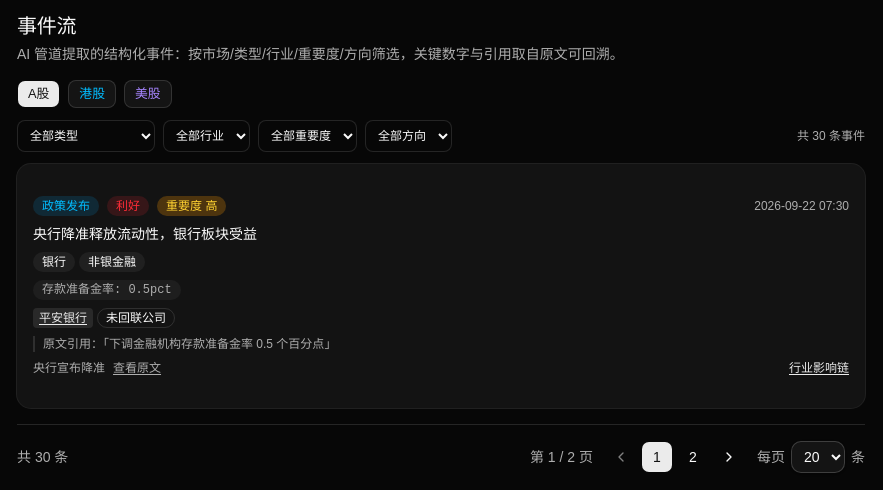
Test: Events 事件流页（T127 + T224 分页化，#/events） › 空页防御回退：末页数据收缩（items 空 + total>0）→ 静默重发末页落地（M9 §5.3）
Expected: the element with test id "event-card-9" is shown, [17,164,865,408]
Click the button with test id "events-pagination-page-2": {"x": 693, "y": 457} [677,441,709,473]
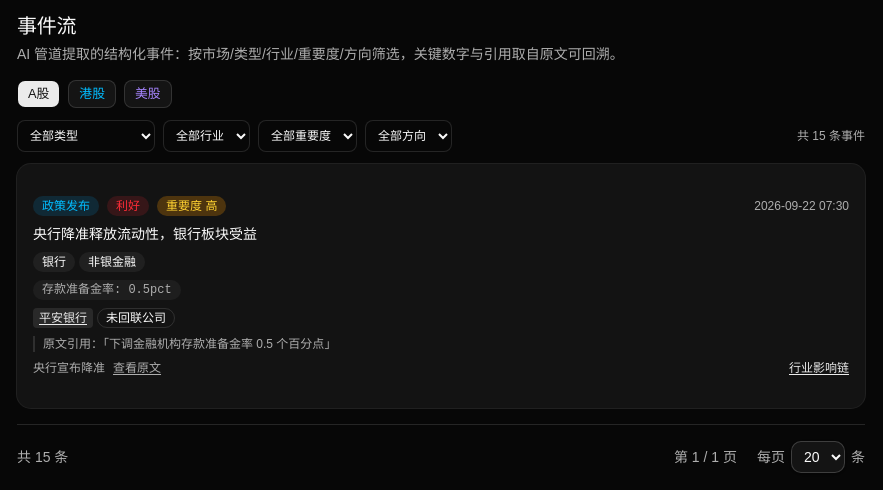
Expected: the element with test id "event-card-9" is shown, [17,164,865,408]
Now the text with test id "events-pagination-page-indicator" shows "1 / 1", box [674,447,737,467]
